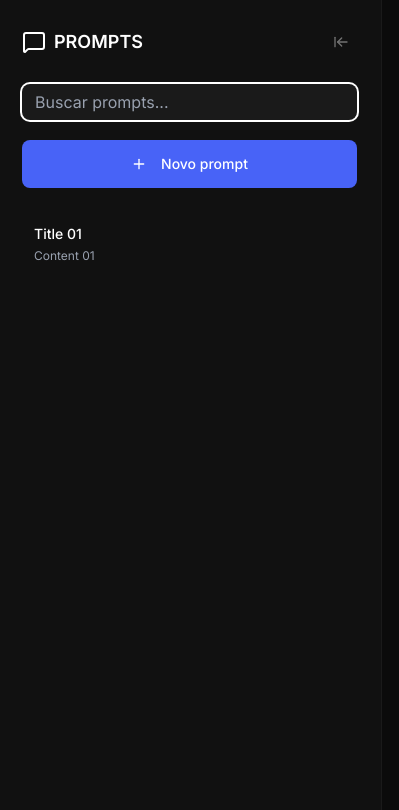
SidebarContent › Collapsed / Expanded › should be contract and show expanded button
The image size is (399, 810).
Click the button named "Minimizar sidebar".
click(341, 42)  # box [325,24,357,60]
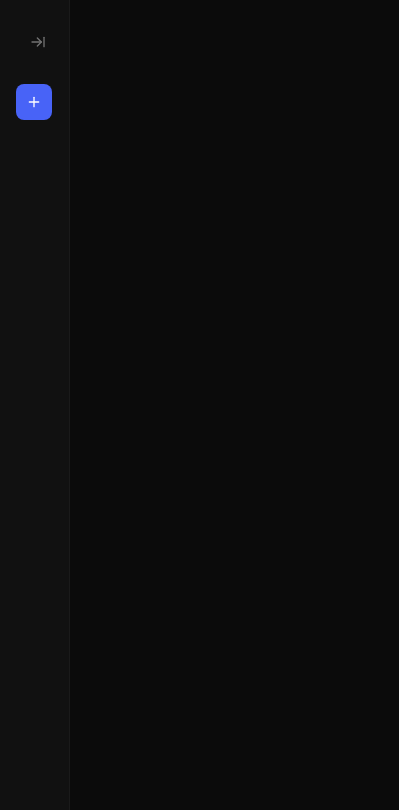
Expected: the button named "Expandir sidebar" is shown, [22,24,54,60]
